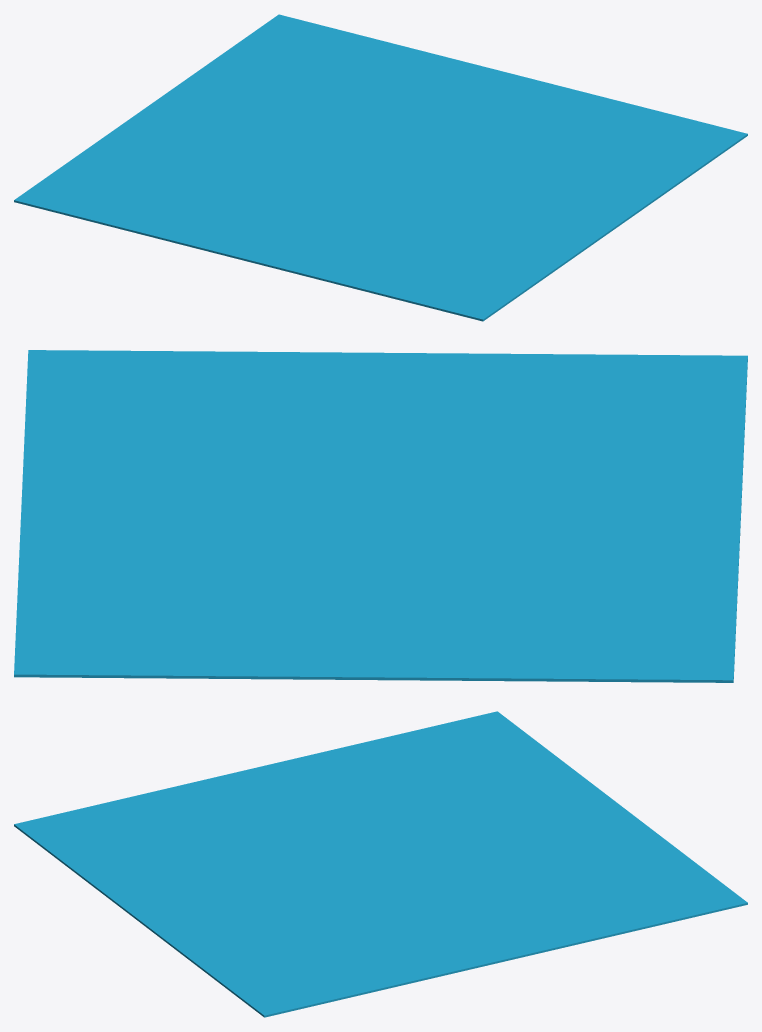
3 renders of one model, top to bottom at view 1: azimuth 30°, elevation 25°; view 2: azimuth 150°, elevation 25°; view 3: azimuth 270°, elevation 25°, orthographic. The views are drawn at different scales.
Visible parts, largest first — view 1: Visual_Cube; view 2: Visual_Cube; view 3: Visual_Cube.
Part boxes in pixels (x1,y1,x2,y2): Visual_Cube: (14, 14, 747, 321); Visual_Cube: (14, 350, 747, 682); Visual_Cube: (14, 711, 747, 1017).
Bounding box in the file's own units: 667 × 2.01 × 680.
